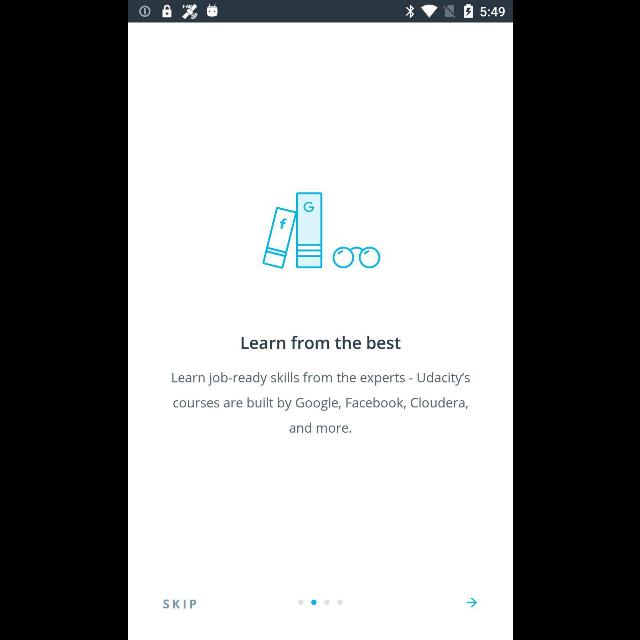icon: (466, 598, 476, 608)
image: (262, 192, 381, 270)
pageindicator: (297, 598, 343, 606)
text: (171, 372, 469, 433), (241, 336, 401, 350), (162, 599, 195, 609)
uppertaskbar: (128, 1, 512, 23)
